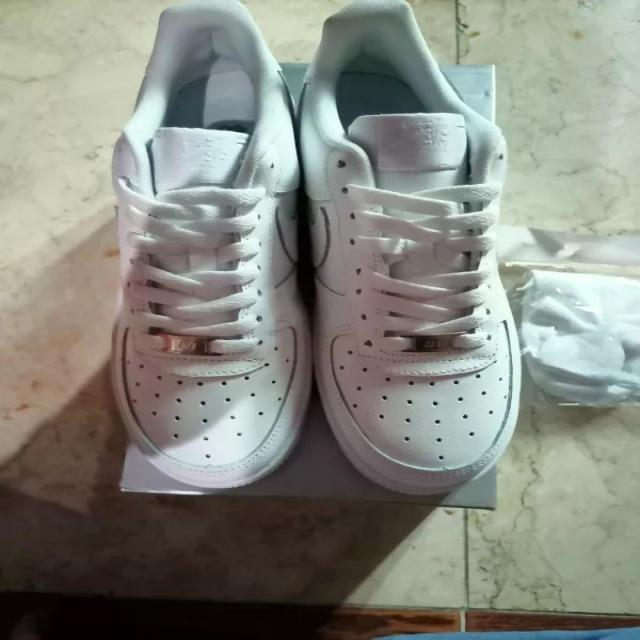nike fake air force: (296, 1, 530, 502), (97, 2, 316, 494)
